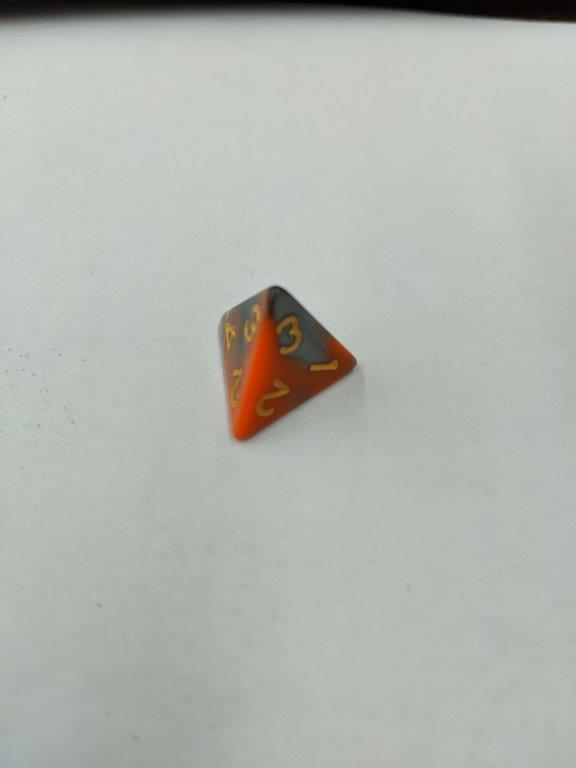d4-3: (215, 281, 359, 442)
